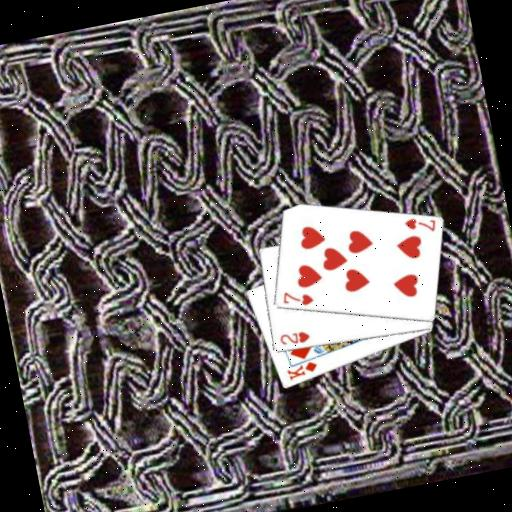2H: (276, 327, 312, 349)
7H: (400, 211, 439, 239), (278, 284, 315, 312)
KD: (283, 358, 321, 383)
